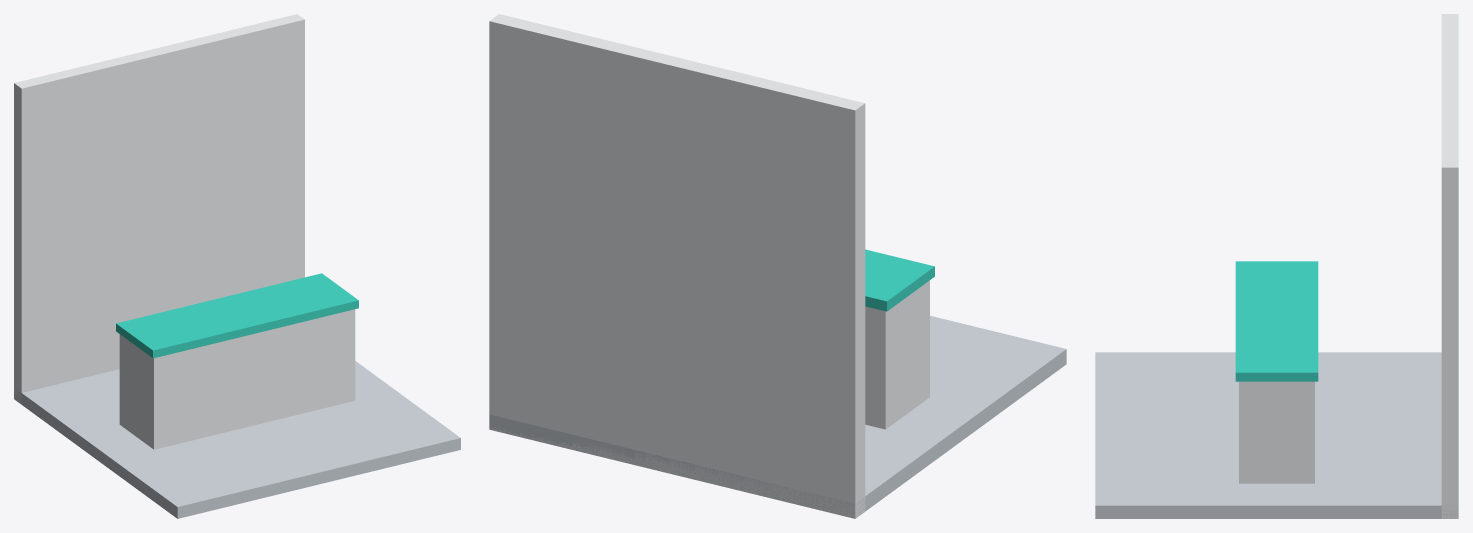
3 renders of one model, left to right at view 1: azimuth 30°, elevation 25°; view 2: azimuth 150°, elevation 25°; view 3: azimuth 270°, elevation 25°, orthographic. The views are drawn at different scales.
Visible parts, largest first — view 1: Exhibition Booth Concept; view 2: Exhibition Booth Concept; view 3: Exhibition Booth Concept.
Part boxes in pixels (bbox=[...]): Exhibition Booth Concept: bbox=[14, 14, 460, 518]; Exhibition Booth Concept: bbox=[489, 14, 1066, 518]; Exhibition Booth Concept: bbox=[1095, 14, 1458, 518].
Bounding box in the file's own units: 3 × 3.2 × 3.
